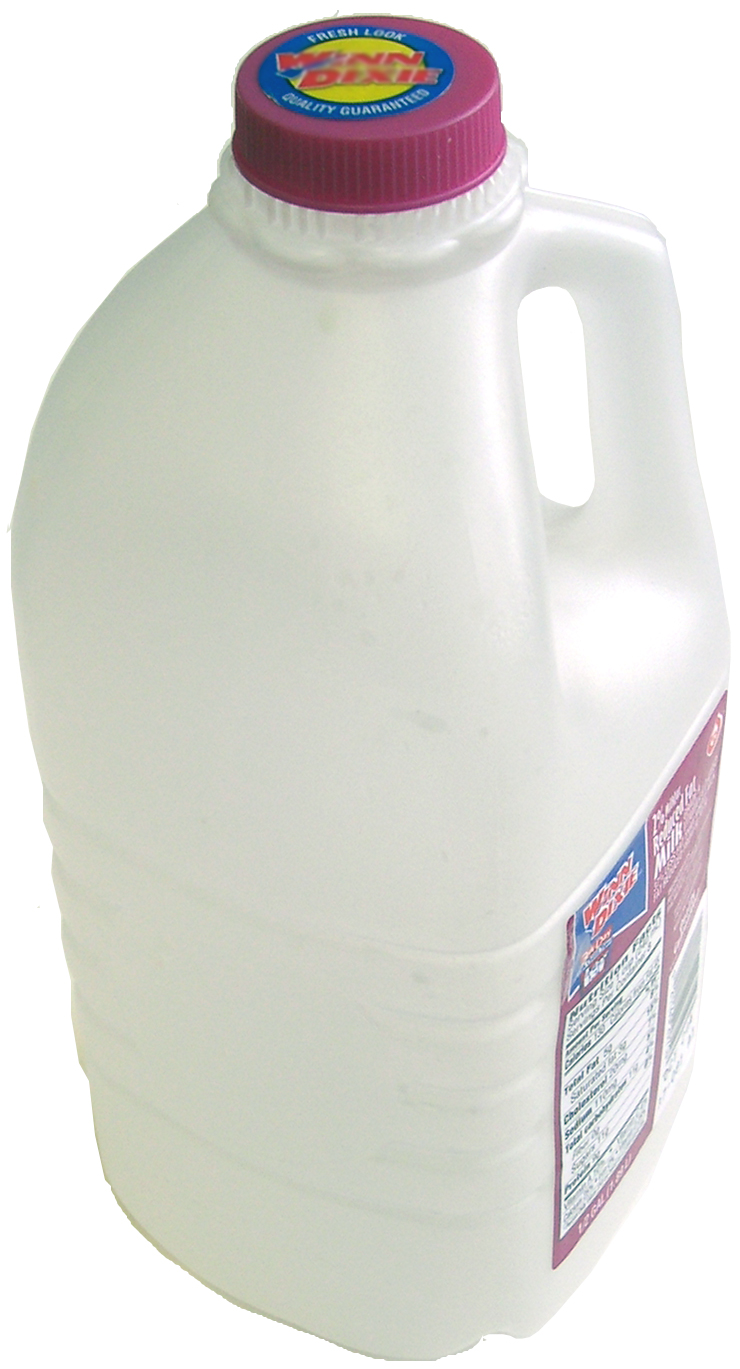Rec_Plastic: (1, 8, 702, 1317)
